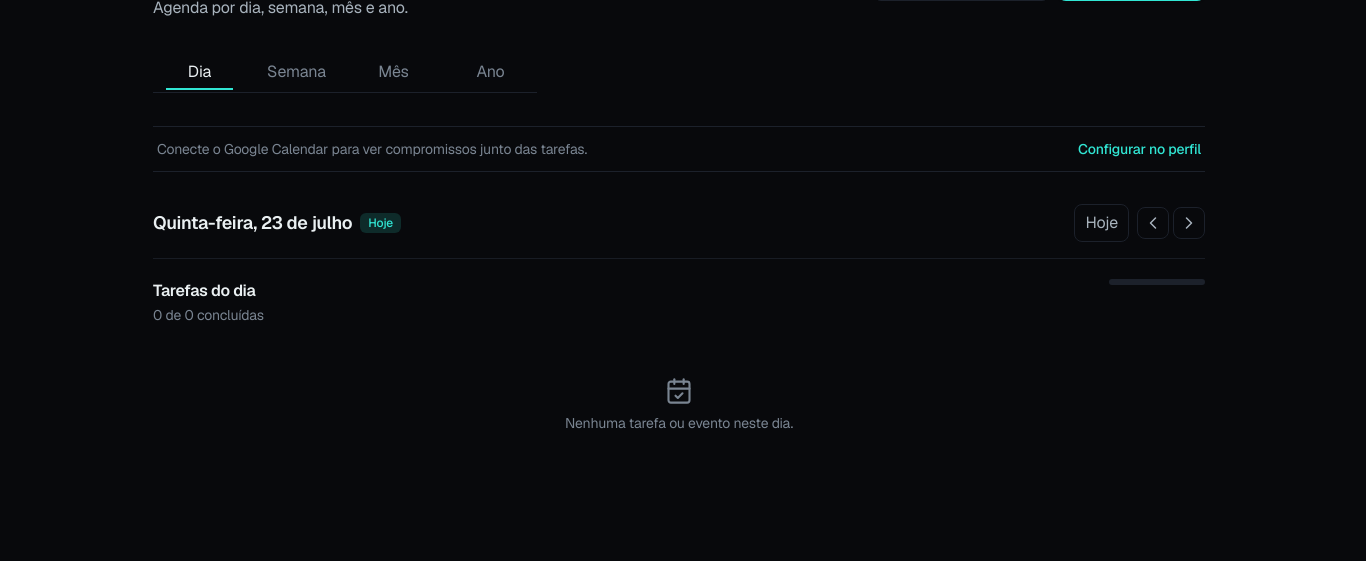
it: RoutineScreen — Dia/Semana/Mês/Ano › troca de verdade o conteúdo entre as quatro visões
Step 1. Click the tab "Semana" → (296, 72), box [250,54,343,90]
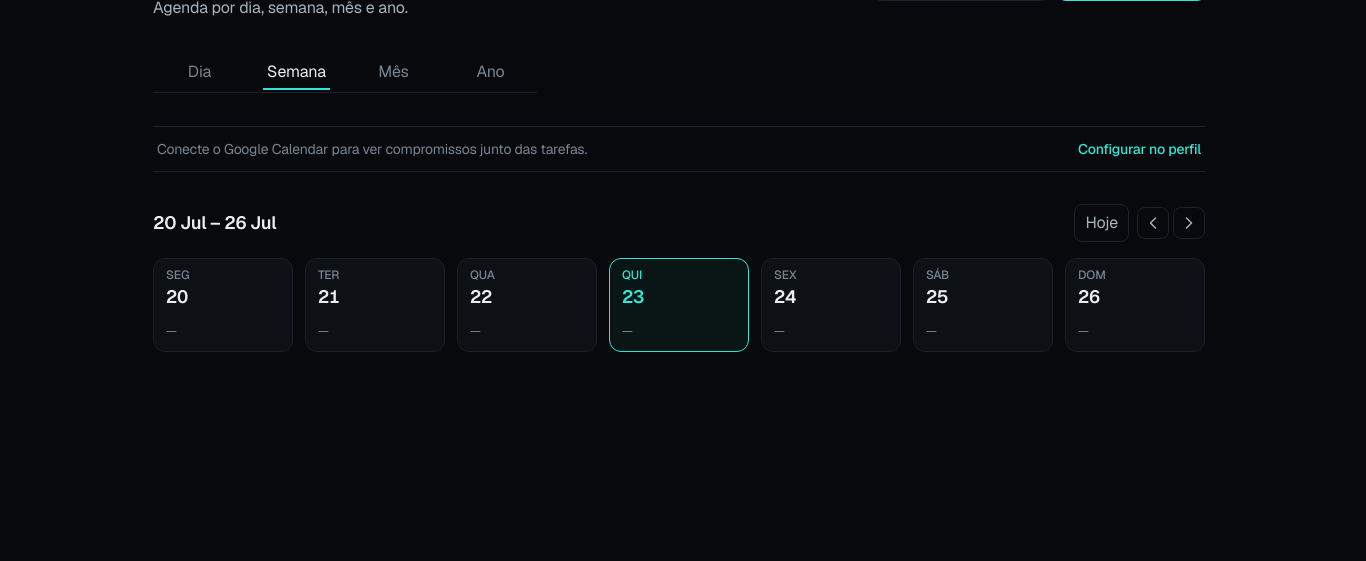
Result: the text "Qua" is shown at [470,267,495,283]
Step 2. Click the tab "Mês" → (394, 72), box [347,54,440,90]
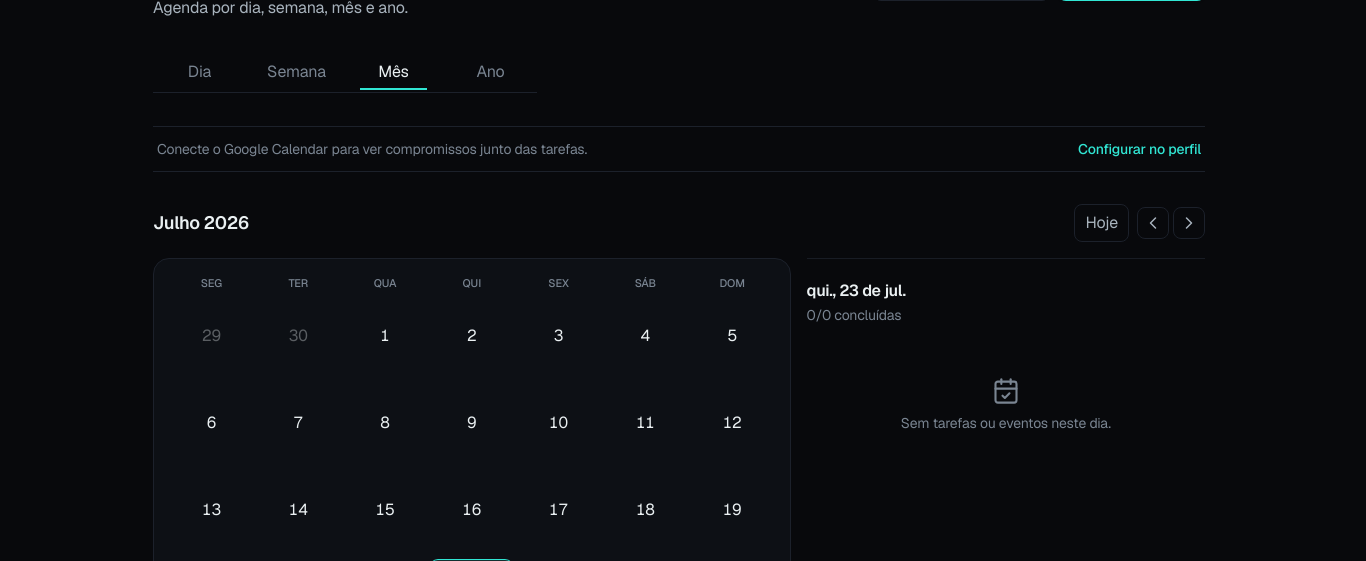
Result: the heading "Julho 2026" is shown at [153,209,249,237]
Step 3. Click the tab "Ano" → (490, 72), box [444,54,537,90]
(page scrolled)
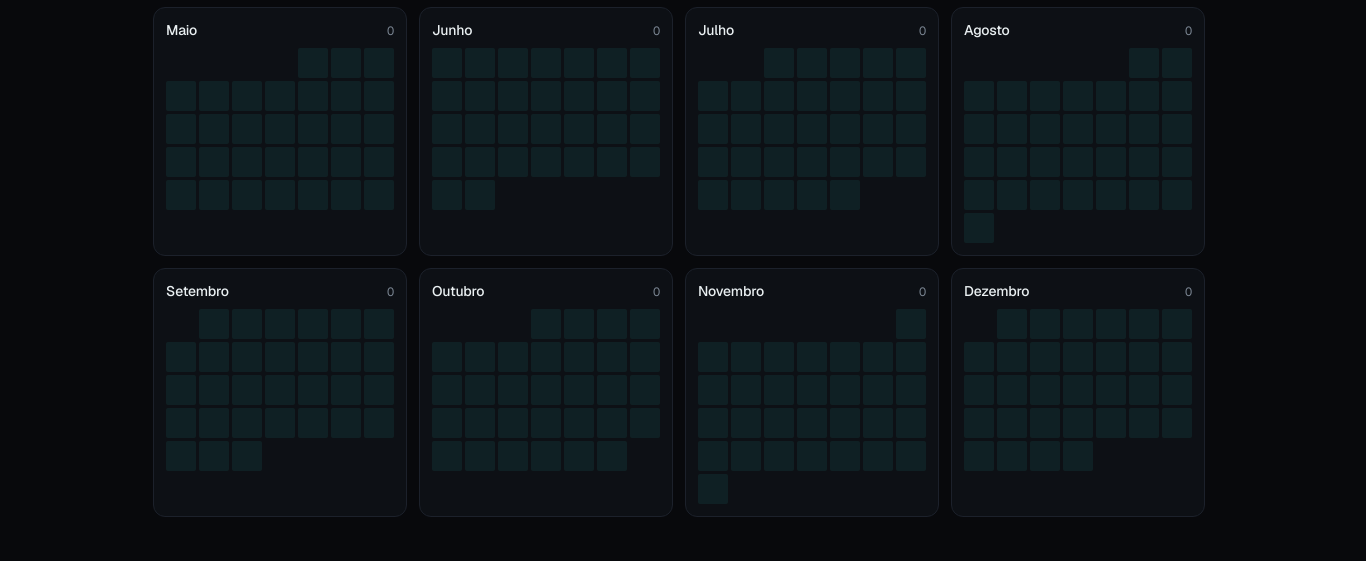
Result: the text "Dezembro" is shown at [964,281,1029,301]
